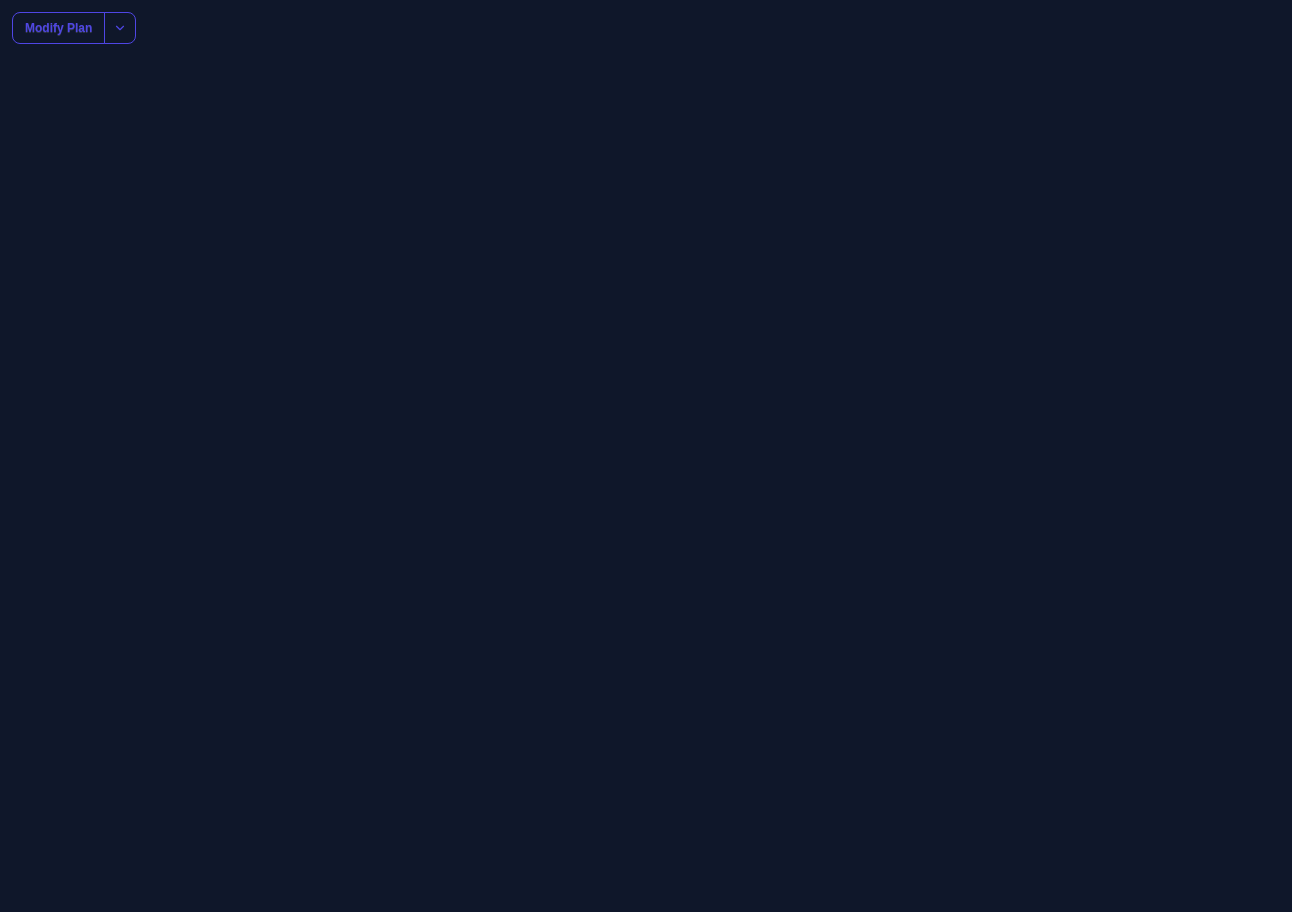
it: a click outside closes the menu without picking anything
The image size is (1292, 912).
Click the button named "More Modify Plan options" at (120, 28), box left=104, top=12, right=136, bottom=44
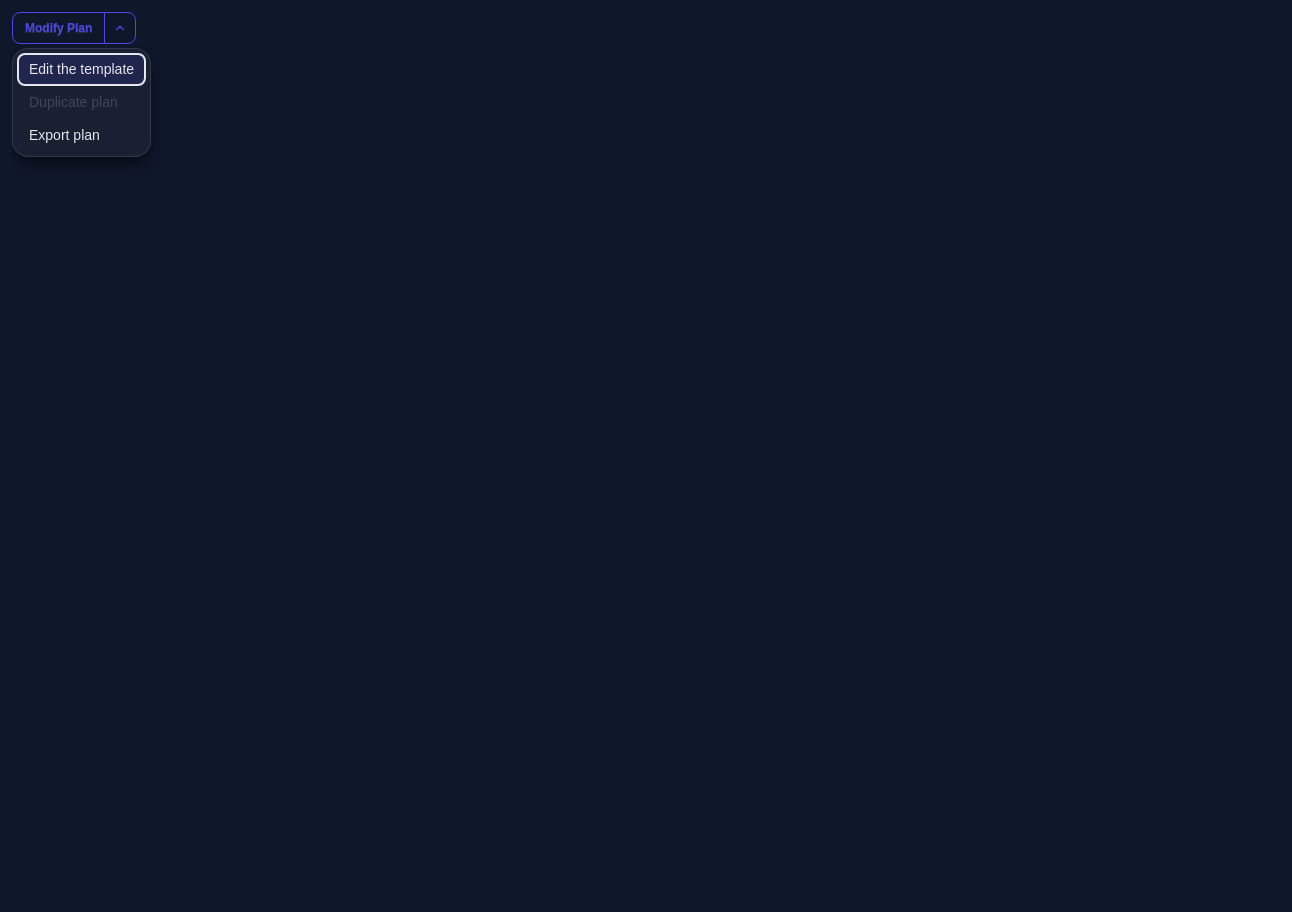
Click the element showing "Modify Plan Edit the template Duplicate plan Export plan" at (652, 462), box left=12, top=12, right=1291, bottom=911
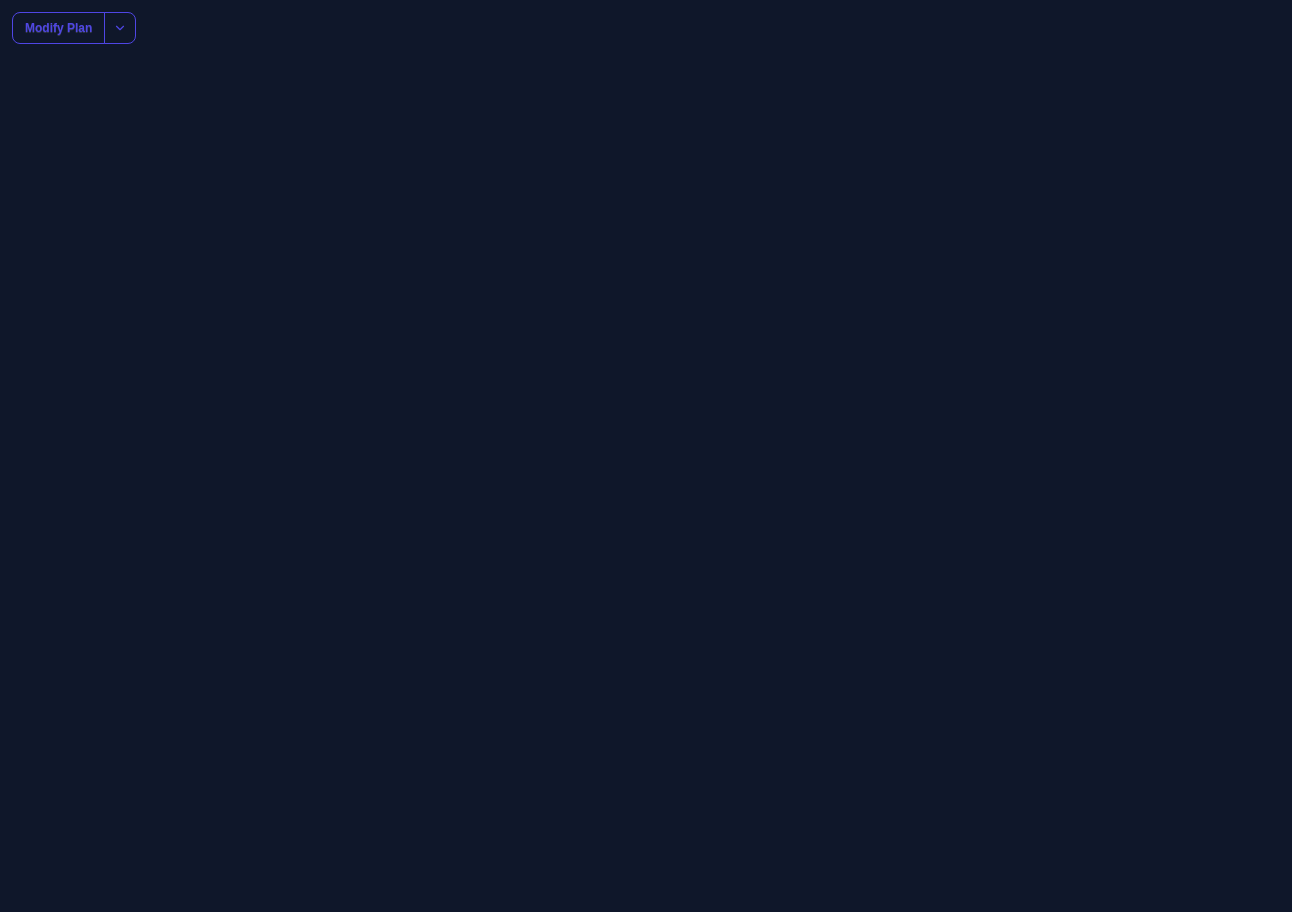
Expected: the menu is gone
